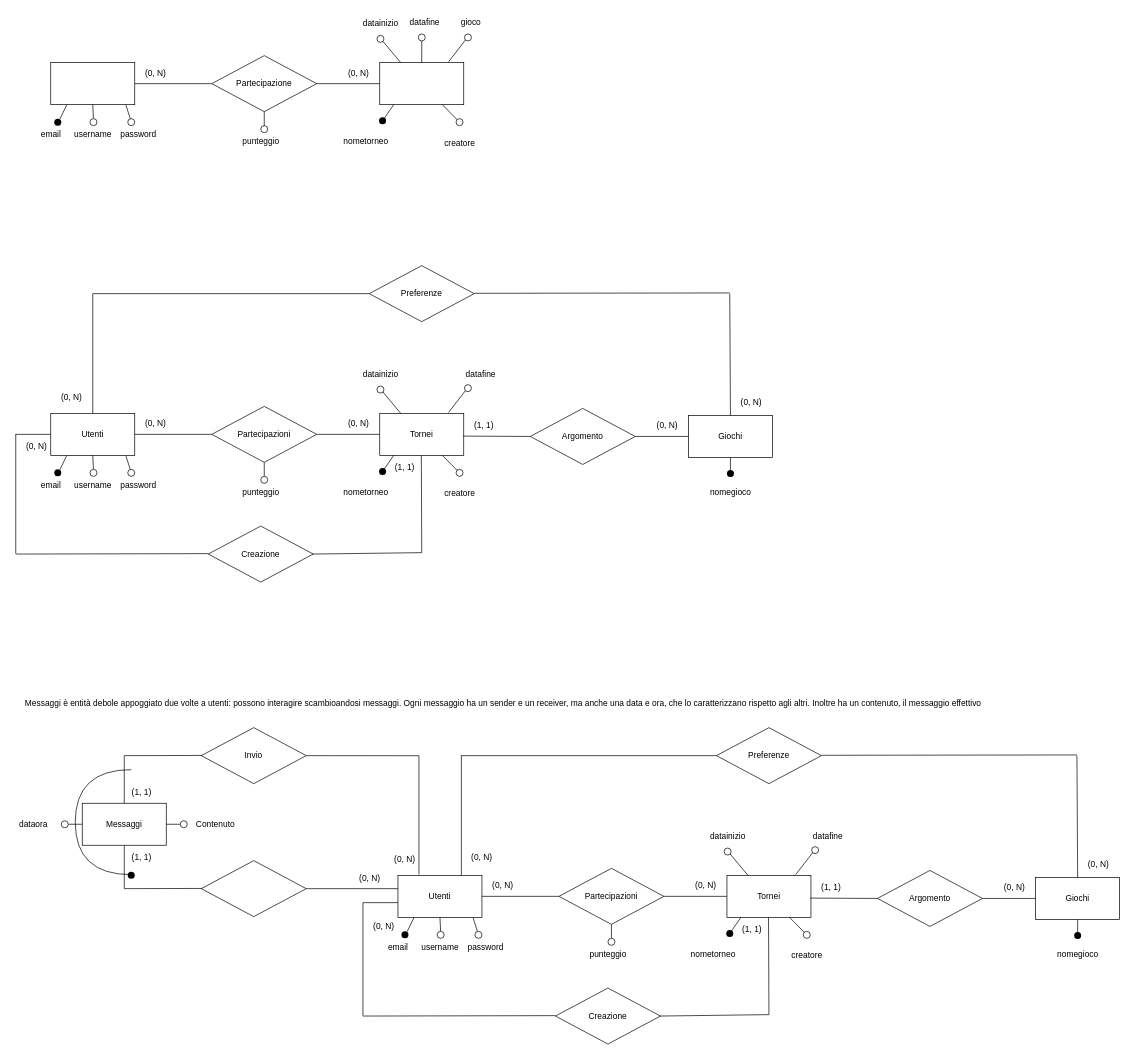
This 1132x1056 diagram has some shape labels left out. The centre of each missing label's shape, as x and y in pixels:
"Ricezione" belongs at point (253, 888).
"Torneo" belongs at point (421, 83).
"Utente" belongs at point (92, 83).
